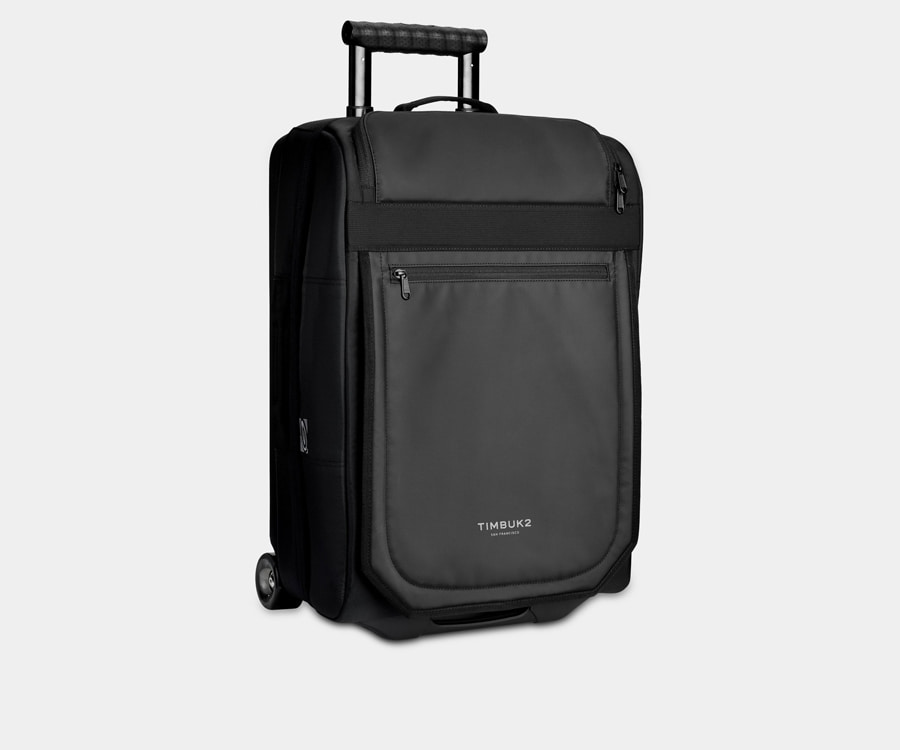luggage: (245, 13, 649, 656)
